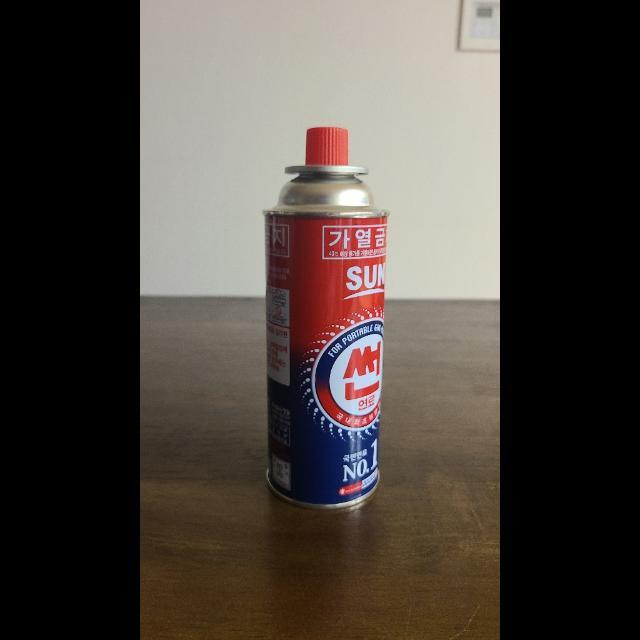chemical_spray_can: (250, 118, 422, 526)
